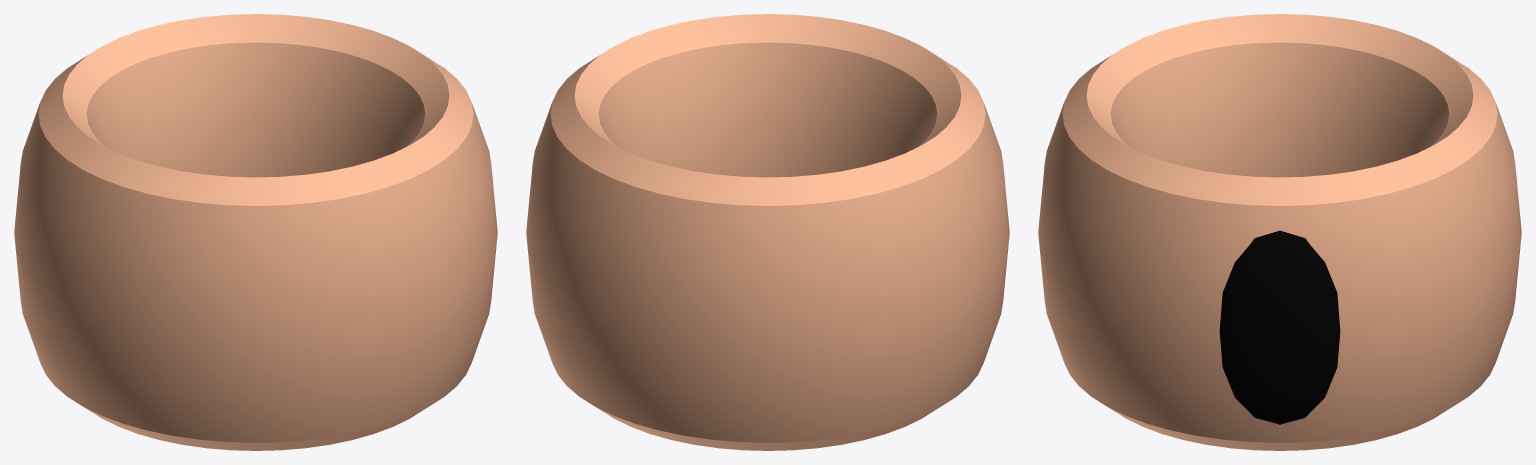
The model's file is OfficeUIWatch.fbx.
3 views of the same model, side by side, from view 1: azimuth 30°, elevation 25°; view 2: azimuth 150°, elevation 25°; view 3: azimuth 270°, elevation 25° (orthographic).
Visible parts, largest first — view 1: Torus.001; view 2: Torus.001; view 3: Torus.001, Cube.
Part boxes in pixels (x1,y1,x2,y2): Torus.001: (14,14,497,450); Torus.001: (526,14,1009,450); Torus.001: (1038,14,1521,450); Cube: (1219,230,1340,424).
Size of the model in its own units: 254 by 156 by 250.
